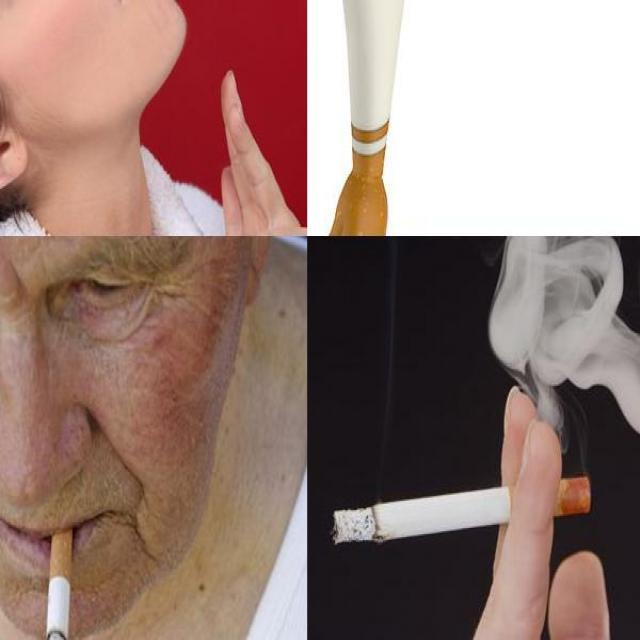smoke: (329, 473, 594, 548), (38, 509, 80, 638)
